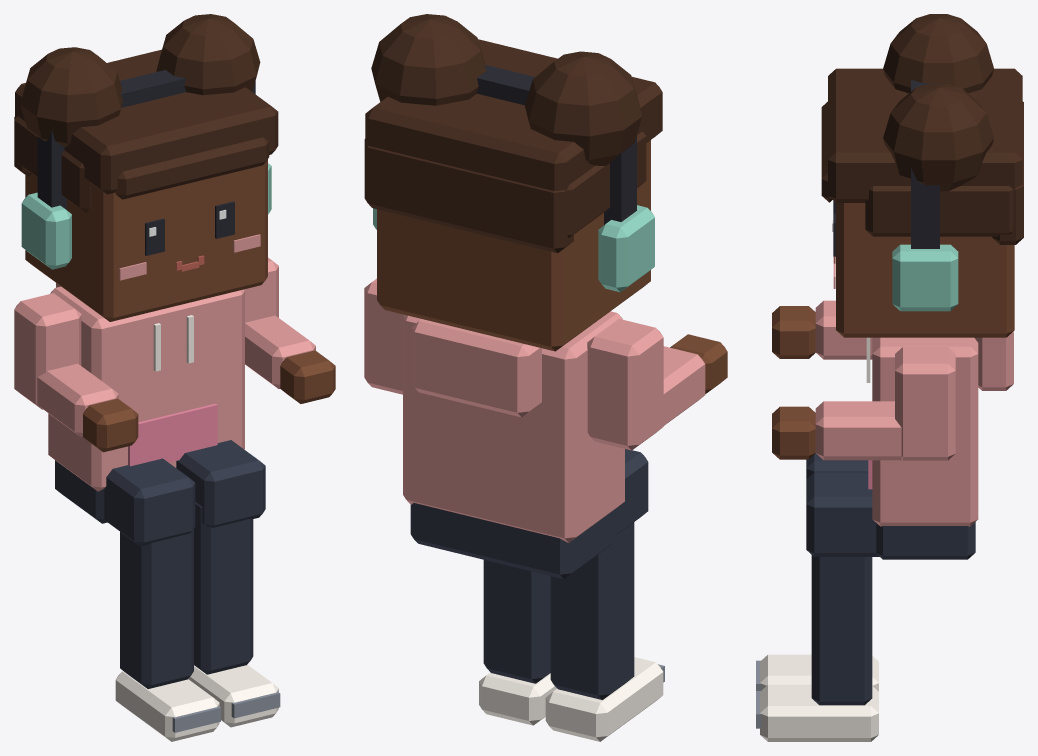
The model's file is CatCafe_NPC_Customer_E_Sit.glb.
3 views of the same model, side by side, from view 1: azimuth 30°, elevation 25°; view 2: azimuth 150°, elevation 25°; view 3: azimuth 270°, elevation 25° (orthographic). The views are drawn at different scales.
Parts seen in each view (by area): view 1: CatCafe_NPC_Customer_E_Sit; view 2: CatCafe_NPC_Customer_E_Sit; view 3: CatCafe_NPC_Customer_E_Sit.
Part boxes in pixels (x1,y1,x2,y2): CatCafe_NPC_Customer_E_Sit: (14,14,335,741); CatCafe_NPC_Customer_E_Sit: (364,14,727,741); CatCafe_NPC_Customer_E_Sit: (756,14,1023,741).
Bounding box in the file's own units: 2.22 × 5.53 × 2.02.
1 material, 1 textured.
